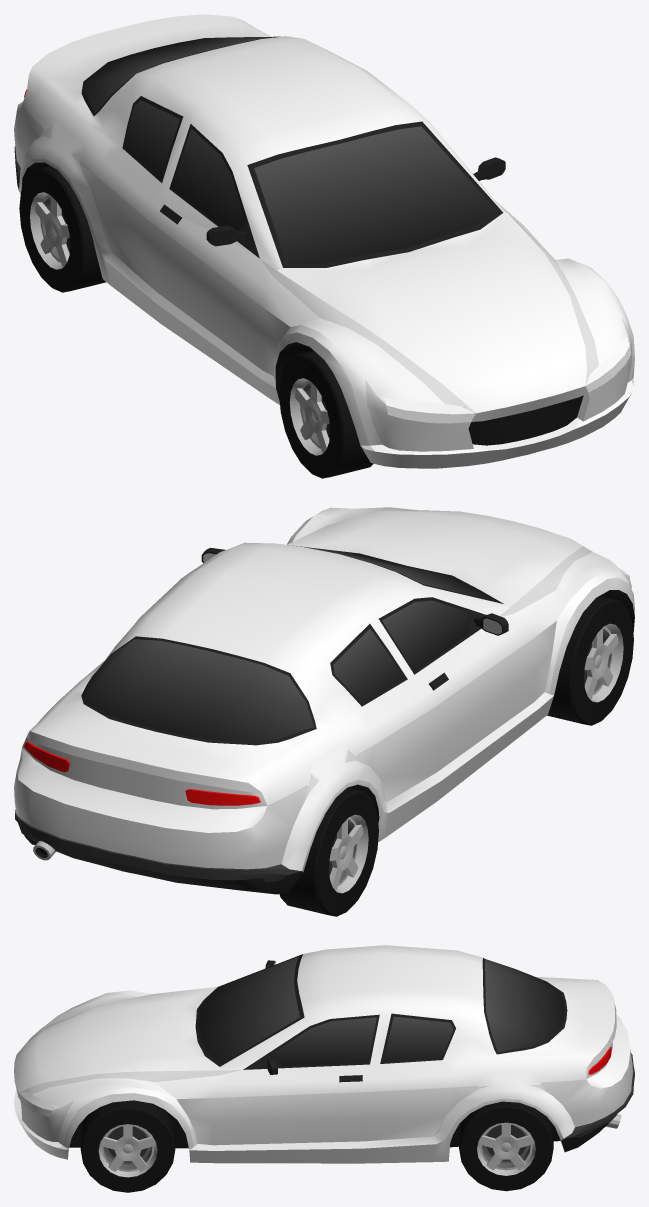
Rendered from car_white.glb.
The picture shows the model from 3 angles, top to bottom: view 1: azimuth 30°, elevation 25°; view 2: azimuth 150°, elevation 25°; view 3: azimuth 270°, elevation 25°; orthographic projection. The views are drawn at different scales.
Parts seen in each view (by area): view 1: car_white; view 2: car_white; view 3: car_white.
Part boxes in pixels (x1,y1,x2,y2): car_white: (14,14,634,478); car_white: (14,507,634,916); car_white: (14,945,634,1192).
Bounding box in the file's own units: 2.39 × 1.73 × 5.8.
Materials: 2 (2 with a texture image).
